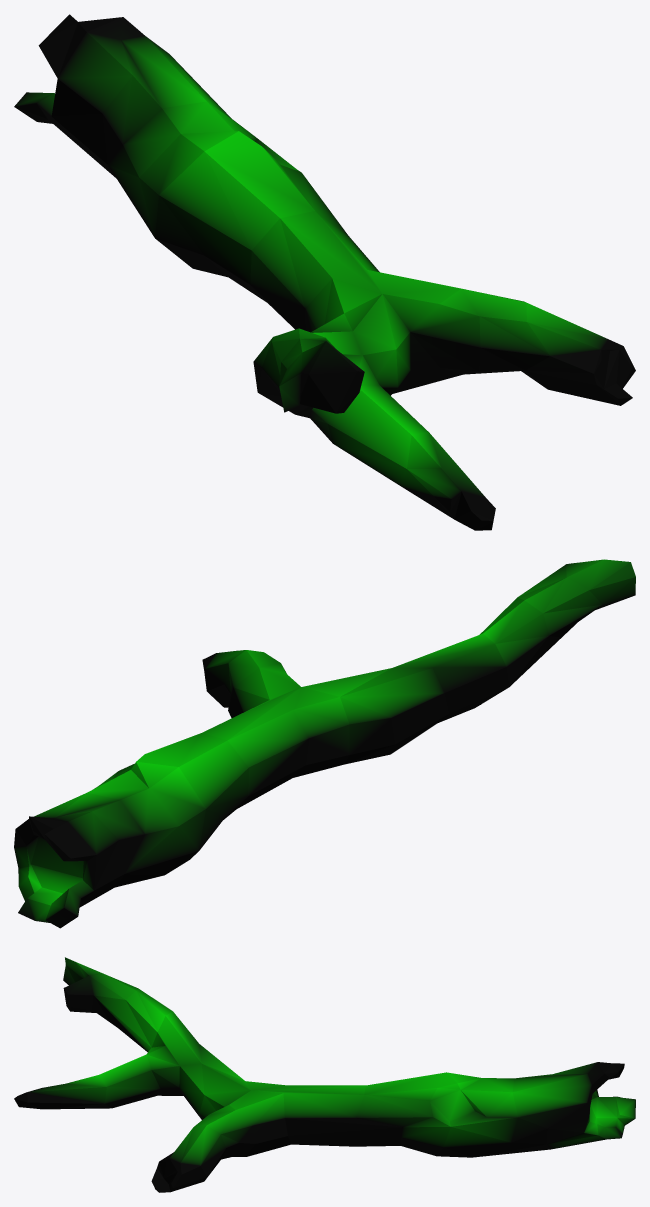
Rendered from SM_Collision_OakFallen1.fbx.
3 renders of one model, top to bottom at view 1: azimuth 30°, elevation 25°; view 2: azimuth 150°, elevation 25°; view 3: azimuth 270°, elevation 25°, orthographic. The views are drawn at different scales.
Visible parts, largest first — view 1: OakFallen1_Collision; view 2: OakFallen1_Collision; view 3: OakFallen1_Collision.
Boxes of the visible parts, x1,y1,x2,y2 form: OakFallen1_Collision: (14,14,635,530); OakFallen1_Collision: (14,559,635,928); OakFallen1_Collision: (14,957,635,1192).
Bounding box in the file's own units: 428 × 871 × 189.
